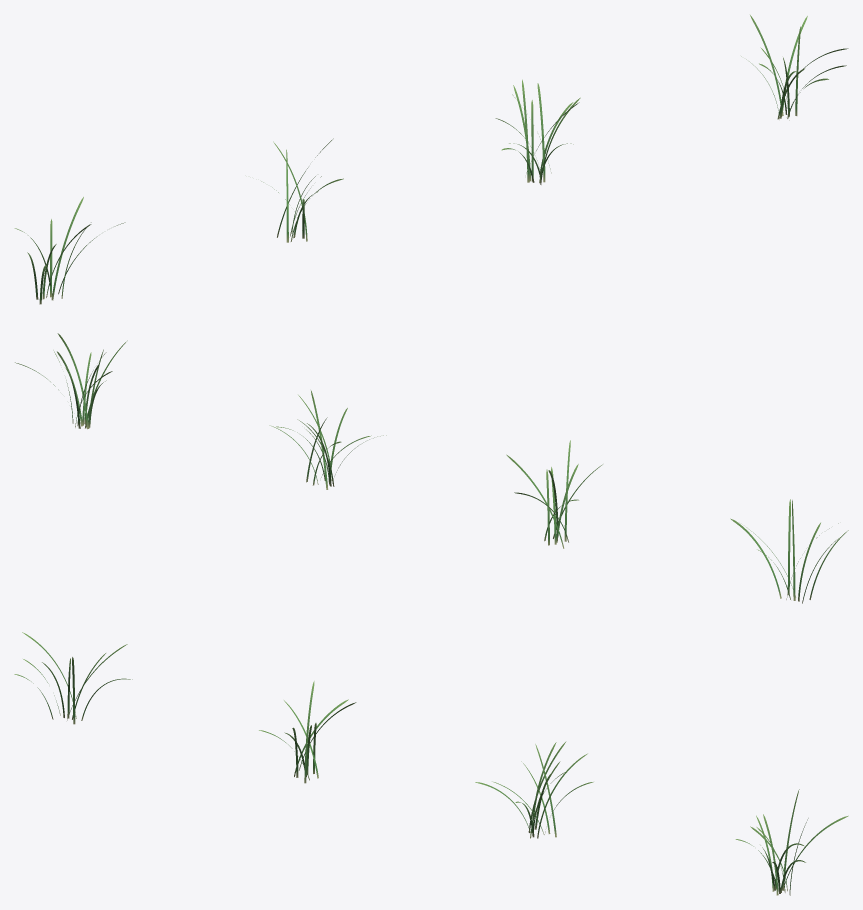
3 renders of one model, top to bottom at view 1: azimuth 30°, elevation 25°; view 2: azimuth 150°, elevation 25°; view 3: azimuth 330°, elevation 25°, orthographic. The views are drawn at different scales.
Visible parts, largest first — view 1: vallisneria.002, vallisneria.003, vallisneria, vallisneria.001; view 2: vallisneria.001, vallisneria.003, vallisneria, vallisneria.002; view 3: vallisneria.002, vallisneria.003, vallisneria.001, vallisneria.
Boxes of the visible parts, left/top/right/bottom form: vallisneria.002: left=495, top=79, right=580, bottom=184; vallisneria.003: left=741, top=15, right=848, bottom=120; vallisneria: left=14, top=197, right=125, bottom=304; vallisneria.001: left=261, top=138, right=343, bottom=242; vallisneria.001: left=506, top=440, right=602, bottom=548; vallisneria.003: left=15, top=333, right=127, bottom=429; vallisneria: left=730, top=499, right=848, bottom=603; vallisneria.002: left=269, top=390, right=386, bottom=489; vallisneria.002: left=475, top=741, right=593, bottom=838; vallisneria.003: left=735, top=789, right=848, bottom=895; vallisneria.001: left=259, top=681, right=356, bottom=783; vallisneria: left=14, top=632, right=132, bottom=724.
Bounding box in the file's own units: 10.05 × 1.02 × 1.26.
